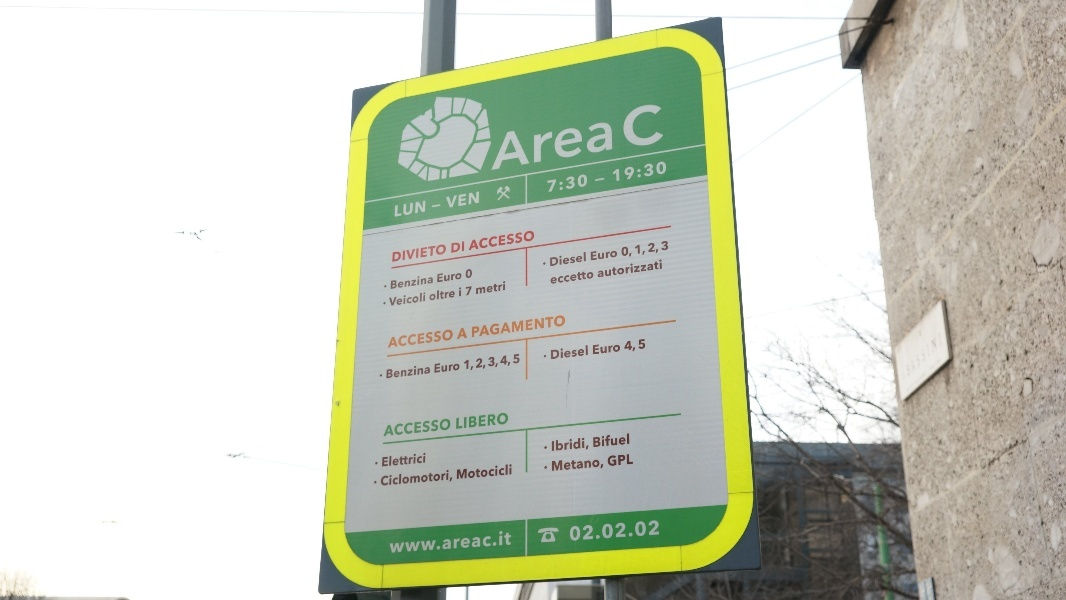text: (513, 102, 528, 171), (529, 102, 544, 171), (545, 102, 560, 171), (561, 102, 576, 171), (577, 102, 592, 171), (593, 102, 608, 171), (609, 102, 624, 171), (625, 102, 640, 171), (641, 102, 656, 171), (913, 333, 928, 381), (929, 333, 943, 381), (902, 333, 912, 381), (657, 102, 662, 171), (481, 315, 496, 337), (497, 315, 512, 337), (513, 315, 528, 337), (529, 315, 544, 337), (545, 315, 560, 337), (625, 161, 640, 182), (641, 161, 656, 182), (577, 521, 592, 542), (593, 521, 608, 542), (609, 521, 624, 542), (625, 521, 640, 542), (641, 521, 656, 542), (481, 231, 496, 251), (497, 231, 512, 251), (513, 231, 528, 251), (508, 102, 512, 171), (561, 175, 576, 193), (401, 244, 416, 262), (417, 244, 432, 262), (609, 260, 624, 278), (625, 260, 640, 278), (641, 260, 656, 278), (401, 330, 416, 348), (417, 330, 432, 348), (433, 330, 448, 348), (401, 419, 416, 437), (417, 419, 432, 437), (433, 419, 448, 437), (625, 241, 640, 258), (641, 241, 656, 258), (465, 354, 480, 371), (481, 354, 496, 371), (497, 354, 512, 371), (465, 413, 480, 430), (481, 413, 496, 430), (385, 469, 400, 486), (401, 469, 416, 486), (417, 469, 432, 486), (433, 469, 448, 486), (433, 244, 447, 262), (401, 201, 416, 217), (449, 192, 464, 208), (465, 192, 480, 208), (561, 457, 576, 473), (577, 457, 592, 473), (613, 161, 624, 182), (561, 270, 576, 285), (577, 270, 592, 285), (401, 364, 416, 379), (465, 464, 480, 479), (481, 464, 496, 479), (497, 464, 512, 479), (609, 433, 624, 448), (417, 275, 433, 289), (481, 536, 497, 550), (548, 175, 560, 193), (388, 419, 400, 437), (657, 161, 667, 182), (401, 275, 416, 289), (401, 292, 416, 306), (481, 281, 496, 295), (561, 346, 576, 360), (385, 453, 400, 467), (401, 453, 416, 467), (561, 438, 576, 452), (594, 433, 608, 448), (401, 540, 416, 554), (417, 540, 432, 554), (449, 536, 464, 550), (465, 536, 480, 550), (657, 241, 669, 258), (497, 413, 509, 430), (577, 175, 588, 193), (625, 339, 640, 352), (433, 288, 448, 301), (561, 253, 576, 266), (387, 364, 400, 379), (417, 364, 430, 379), (593, 342, 608, 355), (609, 454, 624, 467), (499, 531, 512, 546), (593, 249, 608, 261), (593, 457, 604, 473), (577, 438, 589, 452), (599, 260, 608, 278), (449, 271, 462, 283), (473, 315, 480, 337), (577, 346, 588, 360), (417, 201, 426, 217), (435, 362, 448, 373), (609, 342, 620, 355), (466, 269, 480, 279), (473, 231, 480, 251), (390, 292, 400, 306), (390, 540, 400, 554), (551, 270, 560, 285), (452, 242, 464, 253), (552, 457, 560, 473), (570, 521, 576, 542), (466, 287, 480, 296), (393, 244, 400, 262), (391, 275, 400, 289), (417, 292, 426, 306), (497, 281, 506, 295), (393, 330, 400, 348), (417, 453, 426, 467), (449, 362, 460, 373), (529, 231, 535, 251), (438, 271, 448, 283), (513, 354, 520, 371), (457, 413, 464, 430), (551, 253, 560, 266), (577, 253, 586, 266), (625, 454, 634, 467), (552, 346, 560, 360), (552, 438, 560, 452), (433, 540, 441, 554), (561, 315, 566, 337), (609, 249, 618, 261), (457, 464, 464, 479), (657, 260, 662, 278), (449, 330, 454, 348), (449, 288, 455, 301), (625, 433, 630, 448), (443, 536, 448, 550), (449, 469, 453, 486), (641, 339, 646, 352), (396, 201, 400, 217), (657, 521, 660, 542), (595, 178, 608, 182), (477, 281, 480, 295), (460, 288, 464, 297), (449, 419, 451, 437), (622, 241, 624, 258), (382, 469, 384, 486), (461, 328, 464, 339), (446, 192, 448, 208), (430, 288, 432, 301), (433, 205, 441, 208), (465, 328, 467, 339), (593, 270, 594, 285), (383, 453, 384, 467), (591, 249, 592, 261)
